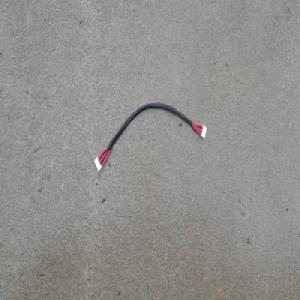Wire: (92, 101, 208, 173)
